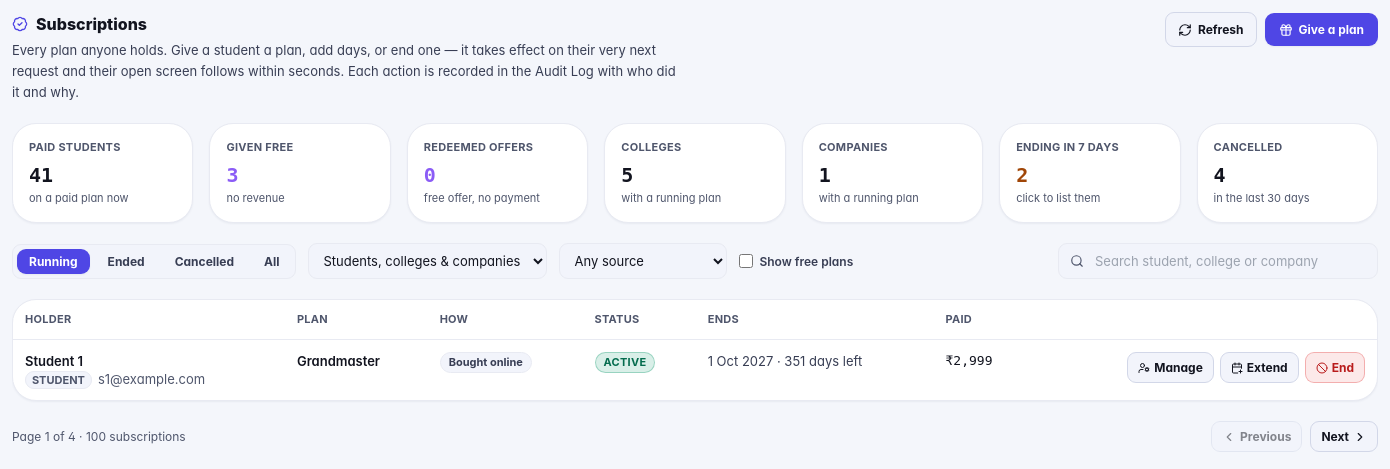
Superadmin → Subscriptions — paging and racing requests › starts again from page 1 with ONE request when a filter changes from a later page
This screenshot has width=1390, height=469.
Expected: the button "Student 1" is shown, left=25, top=352, right=83, bottom=370
What coordinates should you click on to do the following:
click the button "Next"
I would click on:
 (1344, 437)
Its box is left=1310, top=421, right=1378, bottom=452.
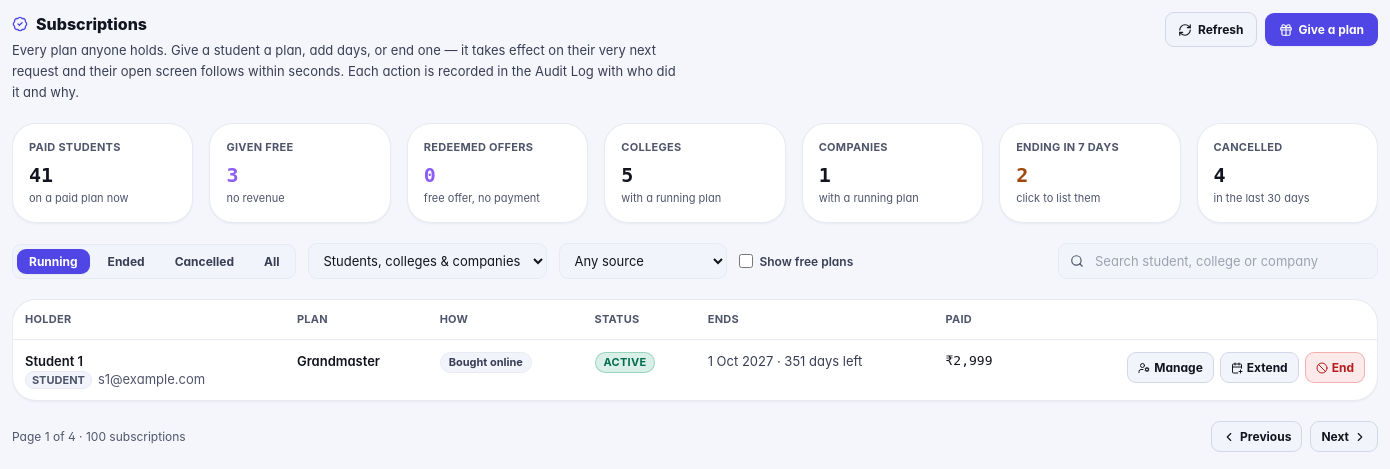
What coordinates should you click on to do the following:
click the button "Next"
I would click on:
 (1344, 437)
Its box is left=1310, top=421, right=1378, bottom=452.
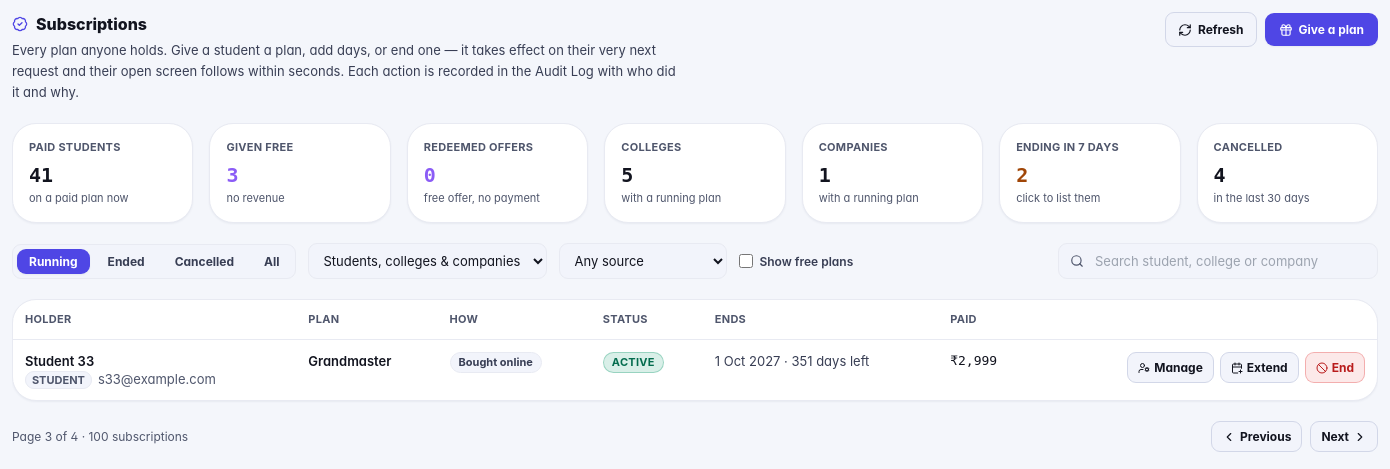
Result: the button "Student 33" is shown at left=25, top=352, right=94, bottom=370
What coordinates should you click on to do the following:
click the button "Ended"
I would click on:
 (126, 261)
Its box is left=96, top=249, right=157, bottom=274.
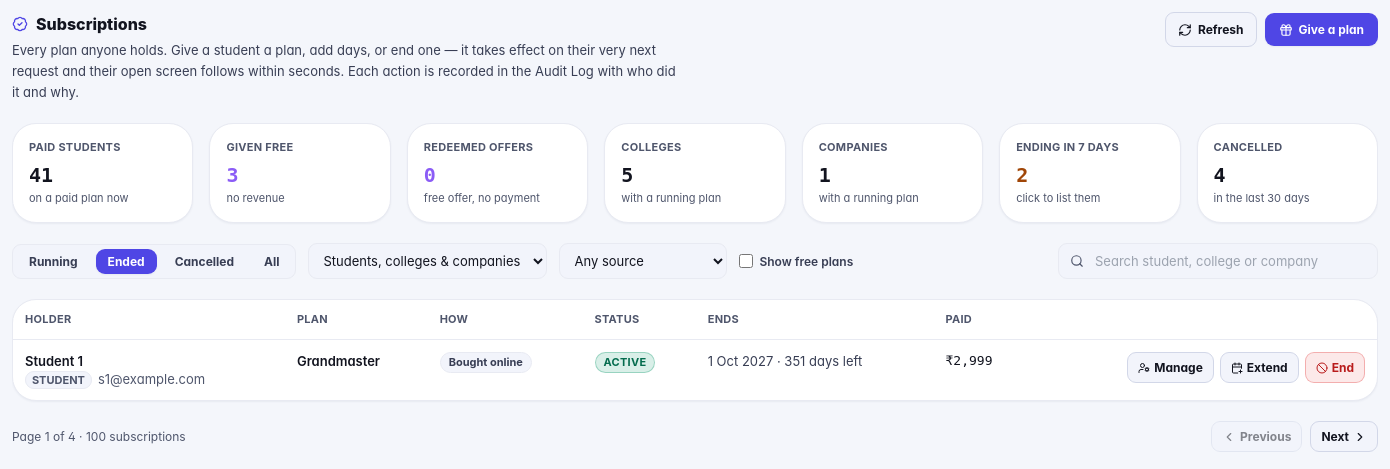
Result: the button "Student 1" is shown at left=25, top=352, right=83, bottom=370
